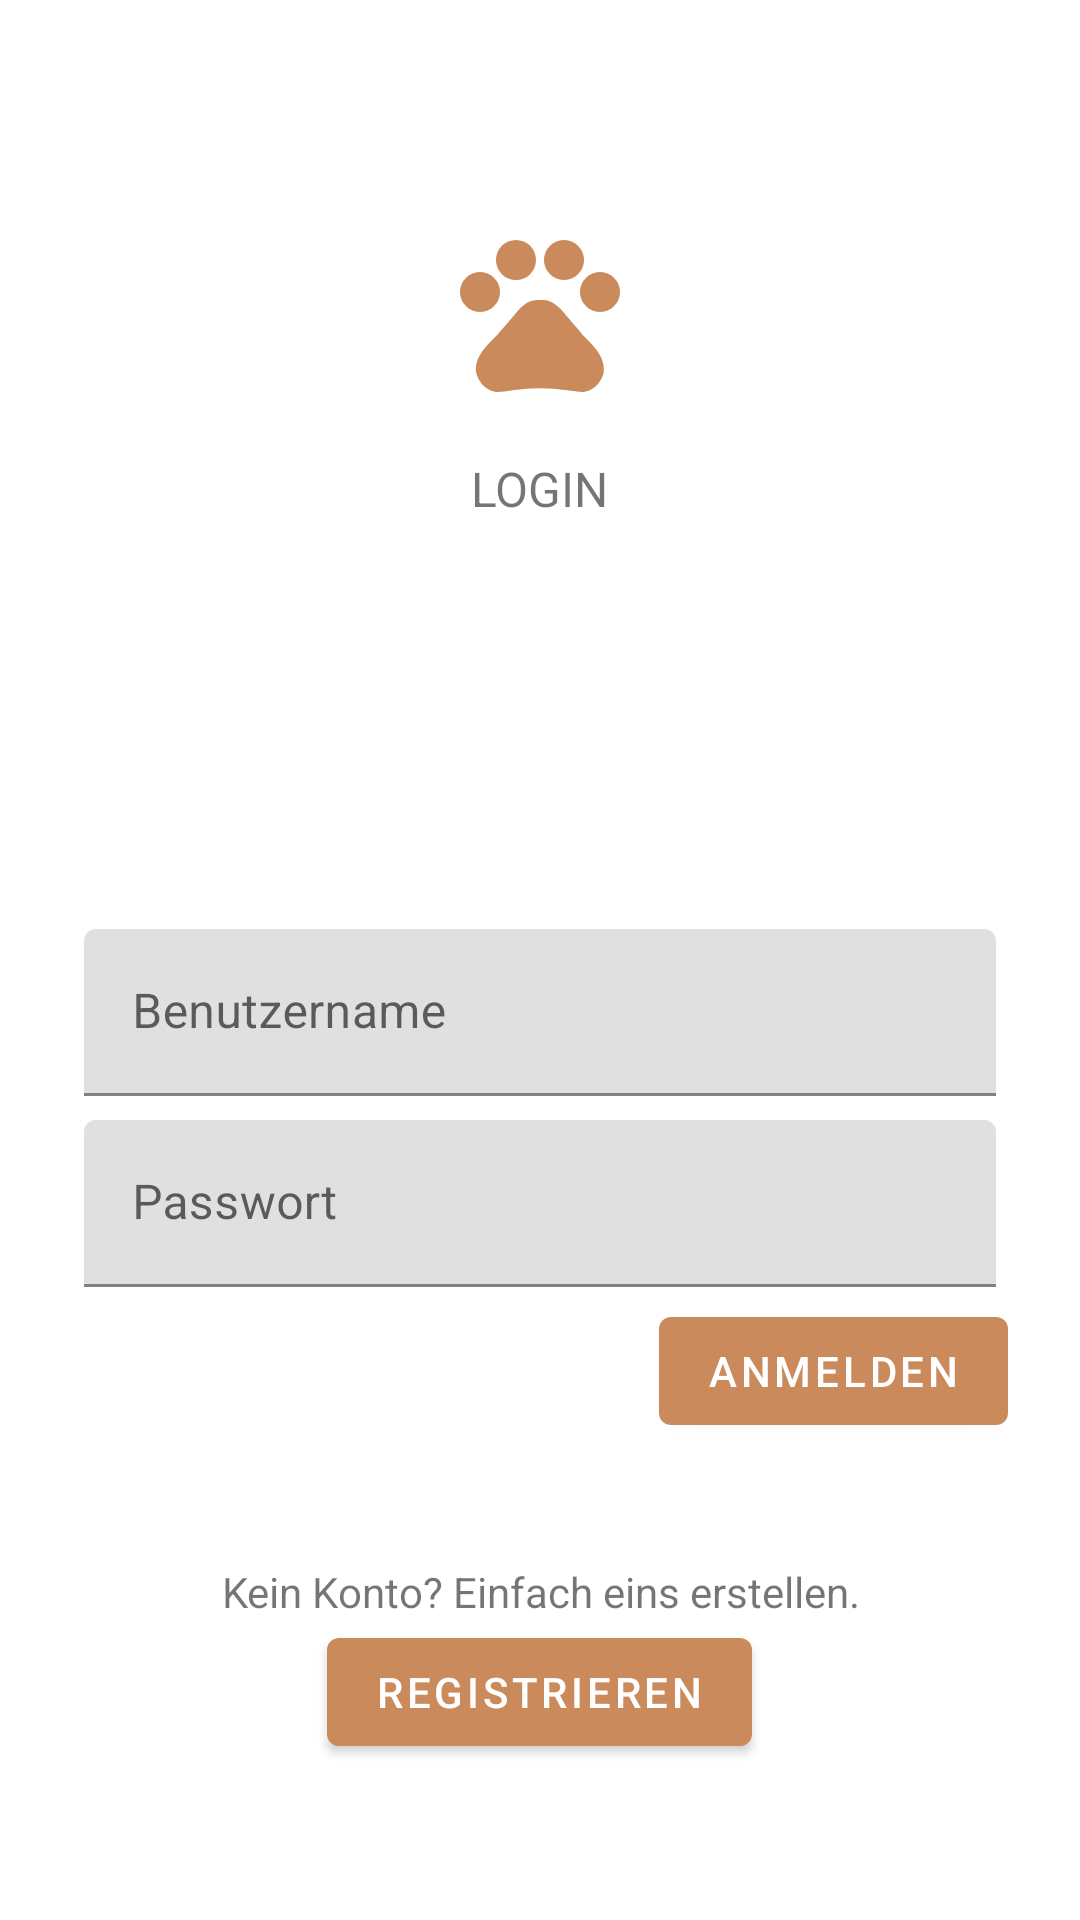

Icon click points for this 1080 x 1920 phone screenshot, format point (x, y):
pets: point (540, 316)
